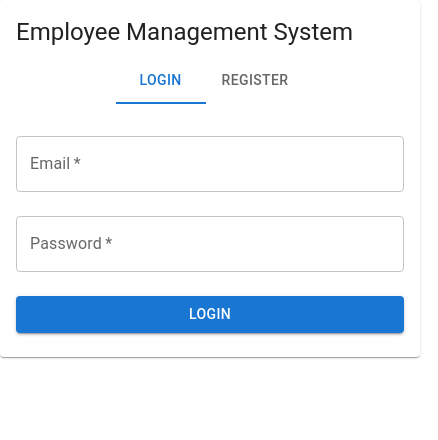
Test case: Login Page › shows generic error when no message in response
Type "test@test.com" into the field labelled "Email *" at (210, 164), box [16,136,404,192]
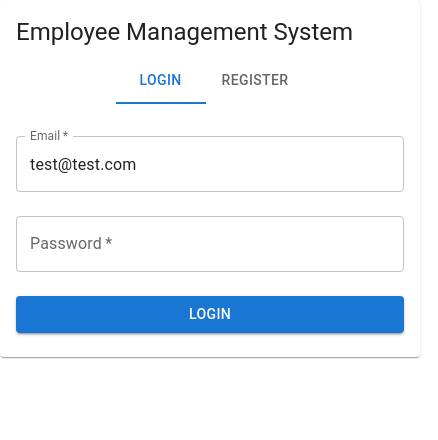
Type "password" into the password field labelled "Password *" at (210, 244), box [16,216,404,272]
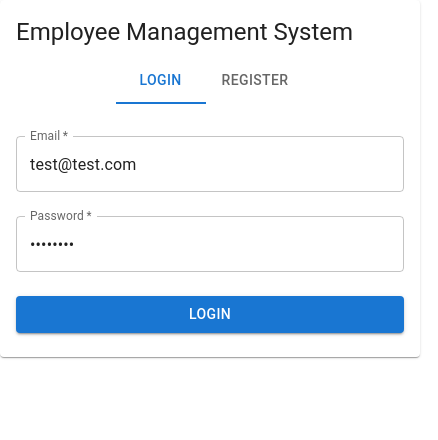
Click the button "Login" at (210, 315), box [16,296,404,333]
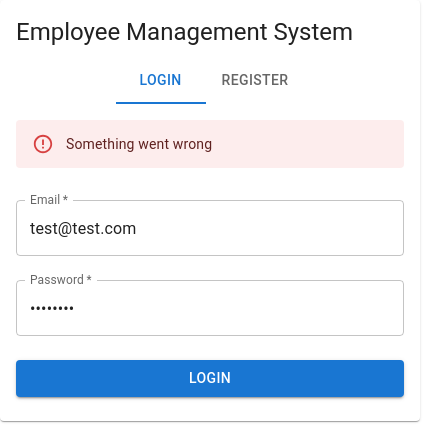
Expected: the text "Something went wrong" is shown, [66,136,212,152]
